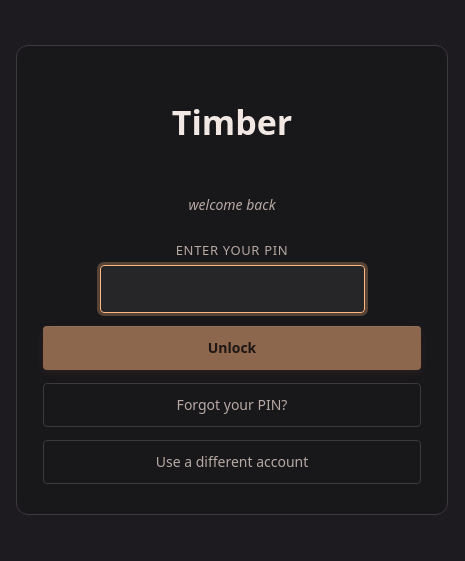
Test: failed unlocking › keeps the typed PIN when the failure was not the PIN
Type "87654321" into the password field labelled "Enter your PIN".
click(232, 289); type("87654321")  # box x1=100 y1=265 x2=364 y2=313
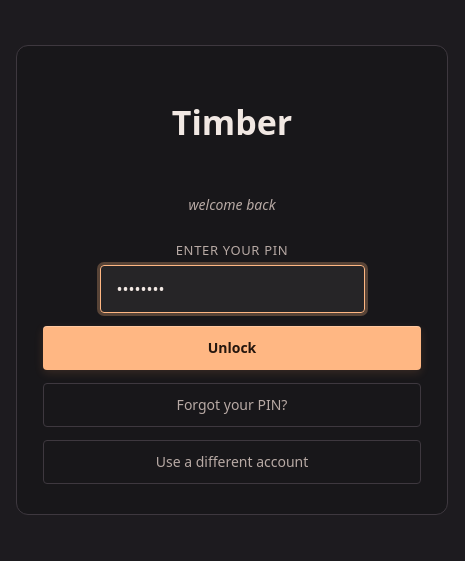
Click the button "Unlock".
click(232, 348)  # box x1=43 y1=326 x2=421 y2=370
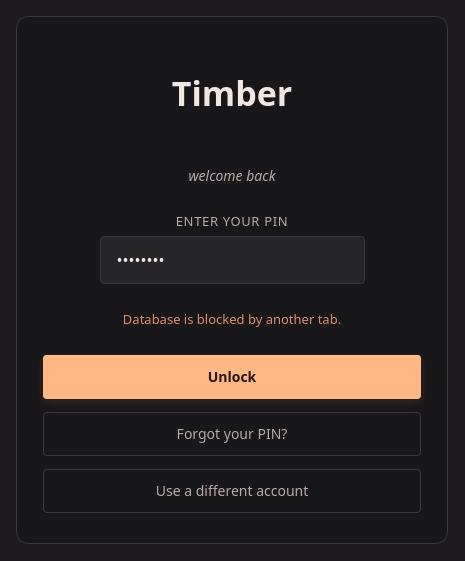
Check: the text "Database is blocked by another tab." is shown, box x1=123 y1=310 x2=341 y2=329
